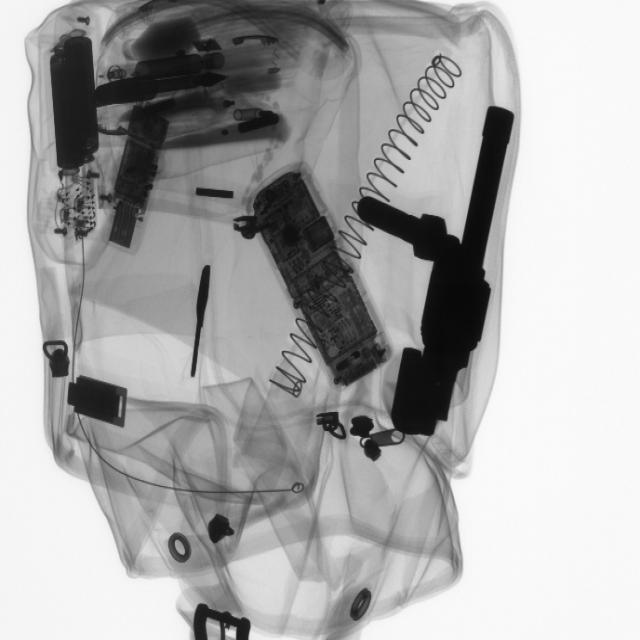GUN: (394, 102, 520, 451)
